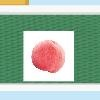raw: (29, 37, 66, 75)
